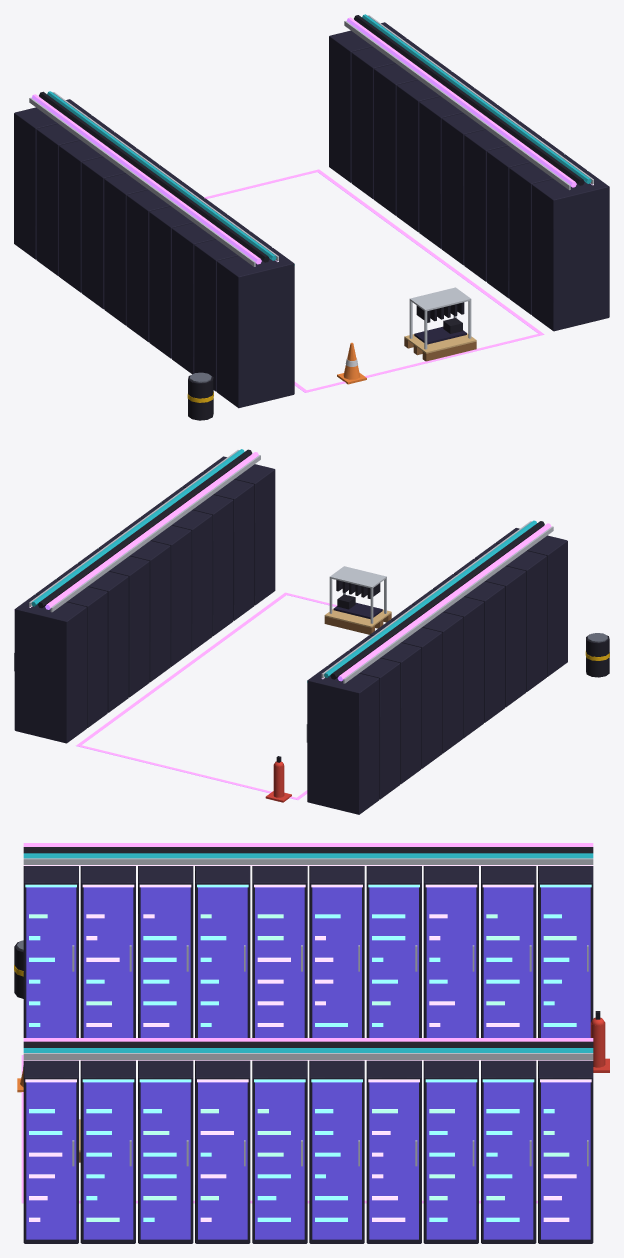
The model's file is einrichtung_rackhalle_2.glb.
The picture shows the model from 3 angles, top to bottom: view 1: azimuth 30°, elevation 25°; view 2: azimuth 150°, elevation 25°; view 3: azimuth 270°, elevation 25°; orthographic projection. The views are drawn at different scales.
Parts seen in each view (by area): view 1: einrichtung_rackhalle_2; view 2: einrichtung_rackhalle_2; view 3: einrichtung_rackhalle_2.
Boxes of the visible parts, x1,y1,x2,y2 form: einrichtung_rackhalle_2: [14, 14, 609, 420]; einrichtung_rackhalle_2: [14, 449, 609, 814]; einrichtung_rackhalle_2: [14, 843, 609, 1243].
Size of the model in its own units: 6.66 by 2.2 by 6.46.
